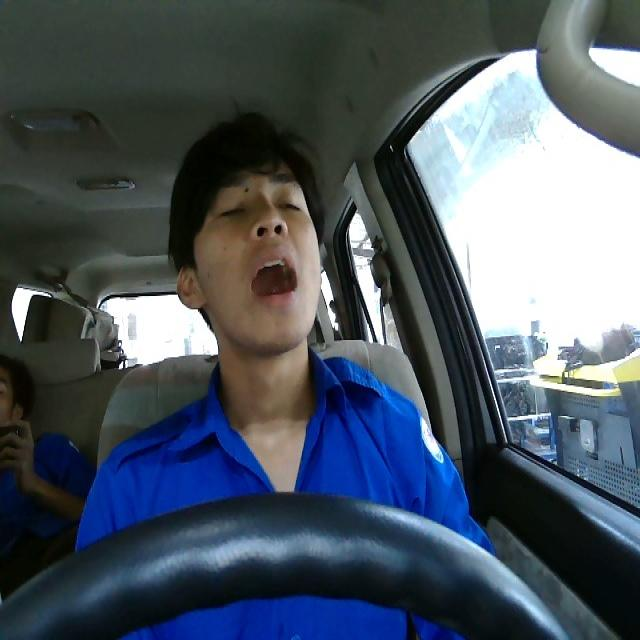yarning: (175, 153, 322, 355)
